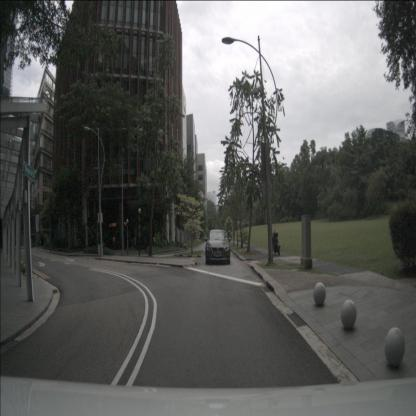vehicle-car: (206, 229, 230, 265)
vehicle-motorcycle: (271, 229, 281, 256)
